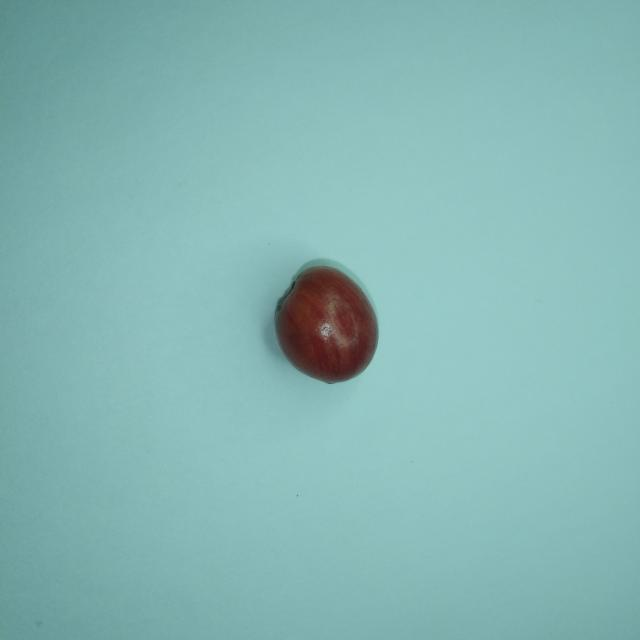Sano: (276, 264, 378, 383)
